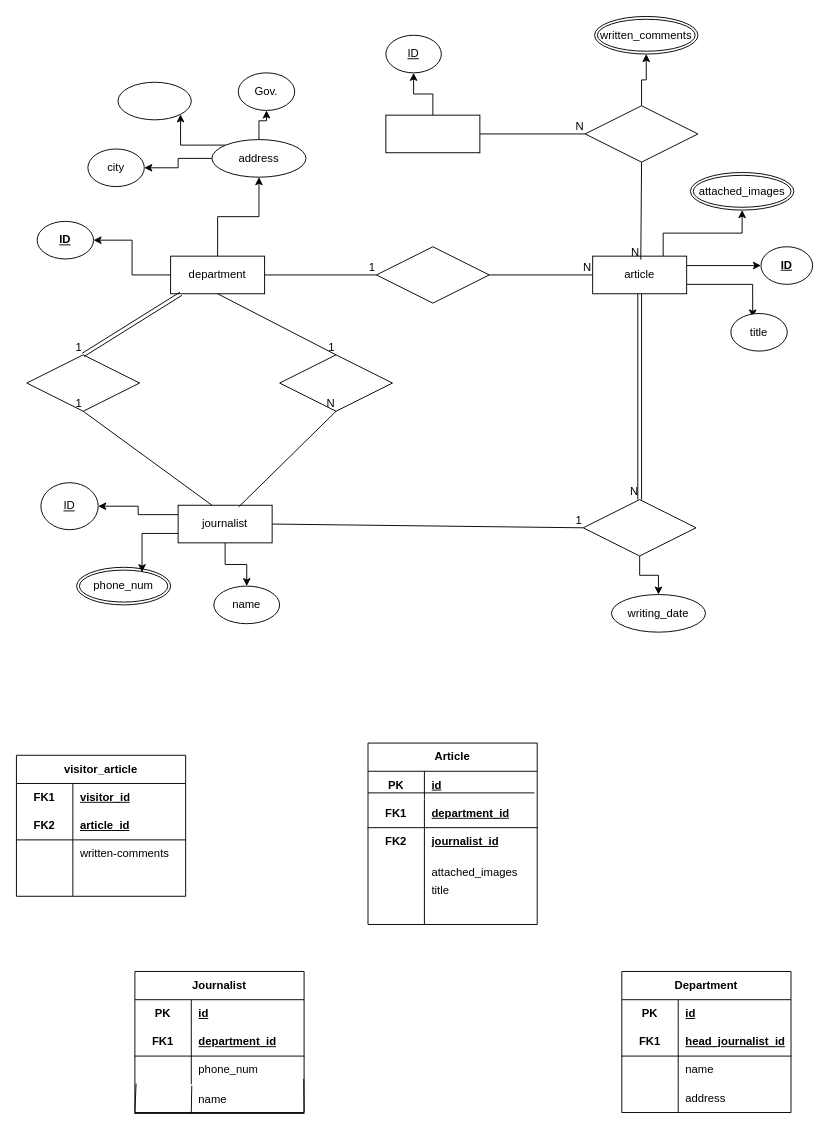
The diagram is 829 pixels wide and 1131 high, and some of its shapes have lost their labels. The centre of each missing label's shape, as x and y in pixels:
"country" goes at (154,100).
"have" goes at (432,274).
"head" goes at (83,382).
"read" goes at (641,133).
"visitor" goes at (432,133).
"work at" goes at (335,382).
"write" goes at (639,527).
